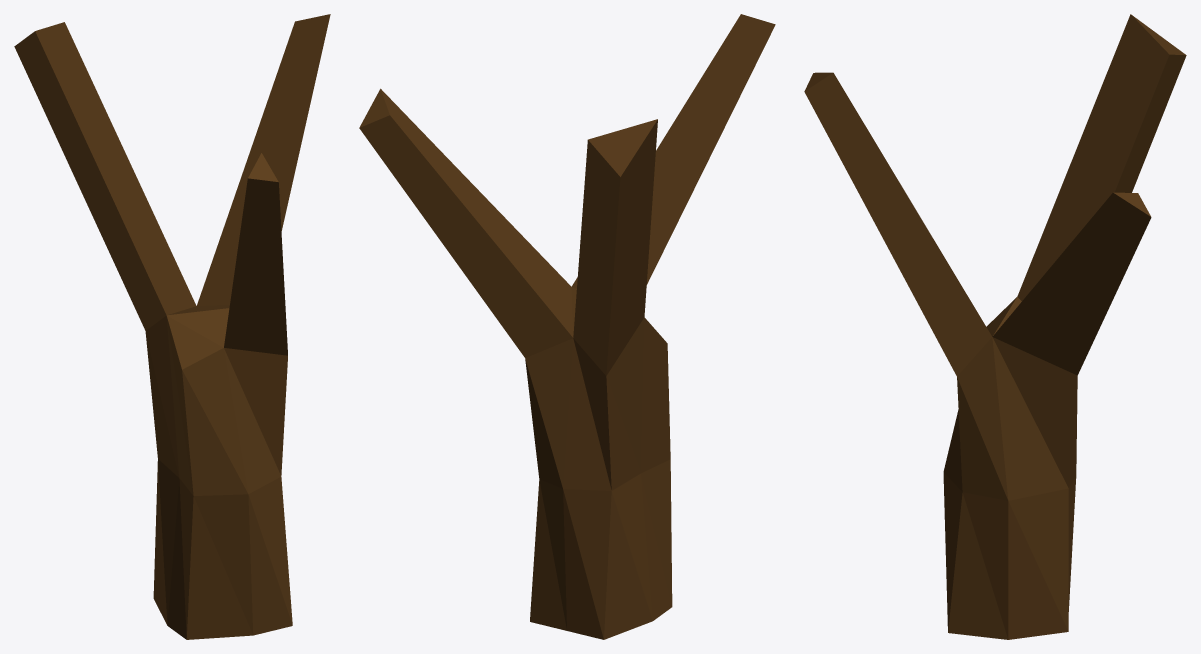
File: Trunk.fbx
3 renders of one model, left to right at view 1: azimuth 30°, elevation 25°; view 2: azimuth 150°, elevation 25°; view 3: azimuth 270°, elevation 25°, orthographic. The views are drawn at different scales.
Visible parts, largest first — view 1: Stamm.006; view 2: Stamm.006; view 3: Stamm.006.
Boxes of the visible parts, <box> form: Stamm.006: <box>14,14,330,639</box>; Stamm.006: <box>359,14,775,639</box>; Stamm.006: <box>804,14,1186,639</box>.
Size of the model in its own units: 134 by 251 by 160.
